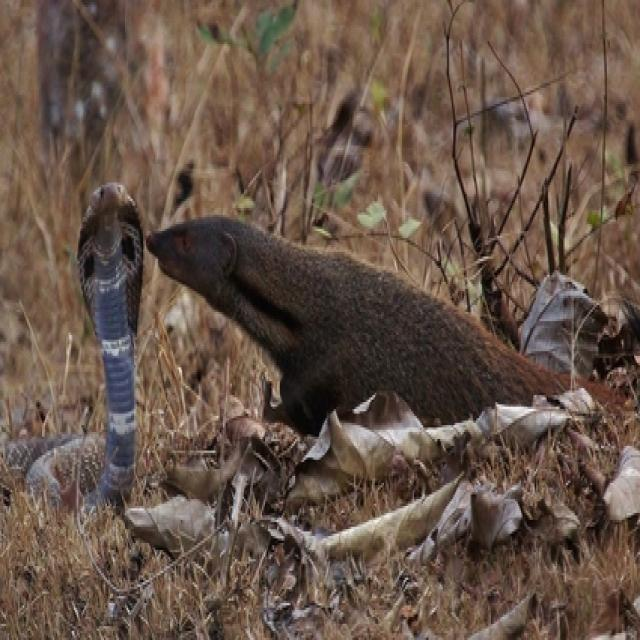Snake: (0, 177, 148, 533)
